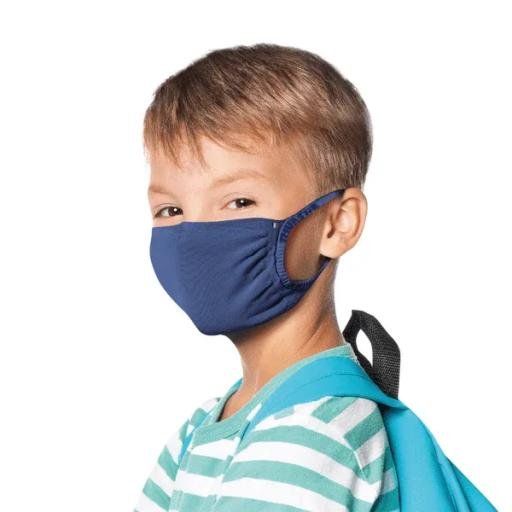mask: (142, 217, 328, 341)
